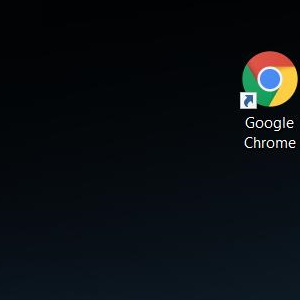chrome: (239, 50, 297, 110)
